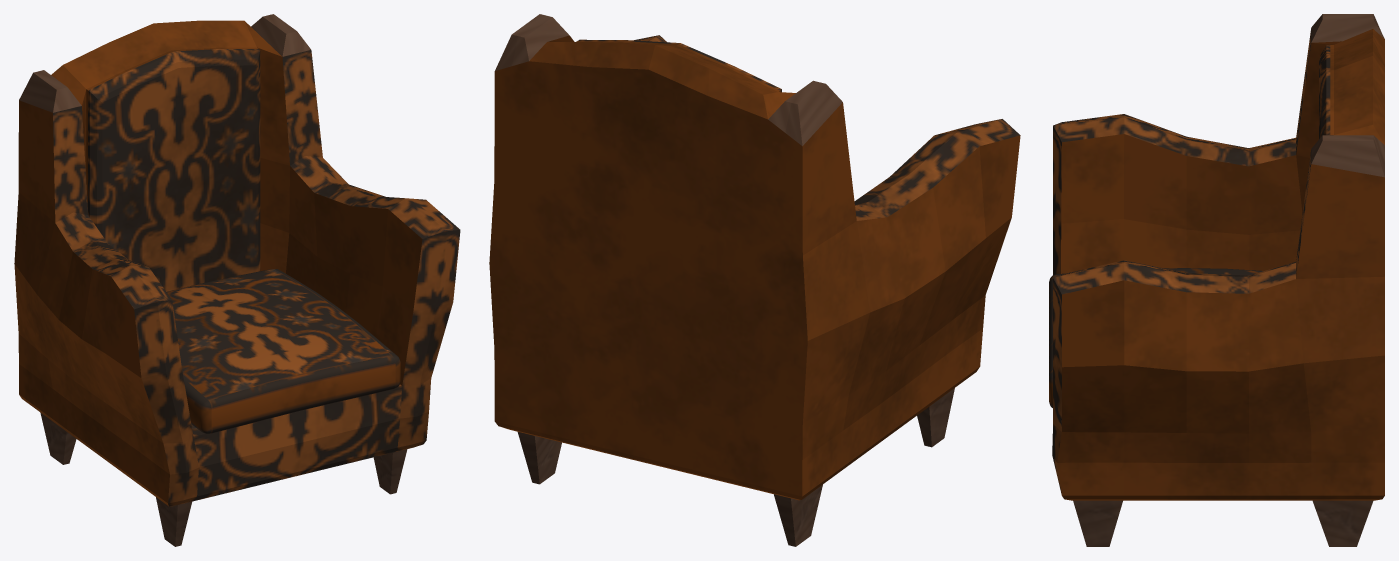
The model's file is Poltrona.fbx.
The picture shows the model from 3 angles, left to right: view 1: azimuth 30°, elevation 25°; view 2: azimuth 150°, elevation 25°; view 3: azimuth 270°, elevation 25°; orthographic projection. The views are drawn at different scales.
Parts seen in each view (by area): view 1: Armchair; view 2: Armchair; view 3: Armchair.
Part boxes in pixels (x1,y1,x2,y2): Armchair: [14, 14, 460, 546]; Armchair: [489, 14, 1020, 546]; Armchair: [1049, 14, 1384, 546].
Bounding box in the file's own units: 123 × 144 × 101.
Materials: 1 (1 with a texture image).
